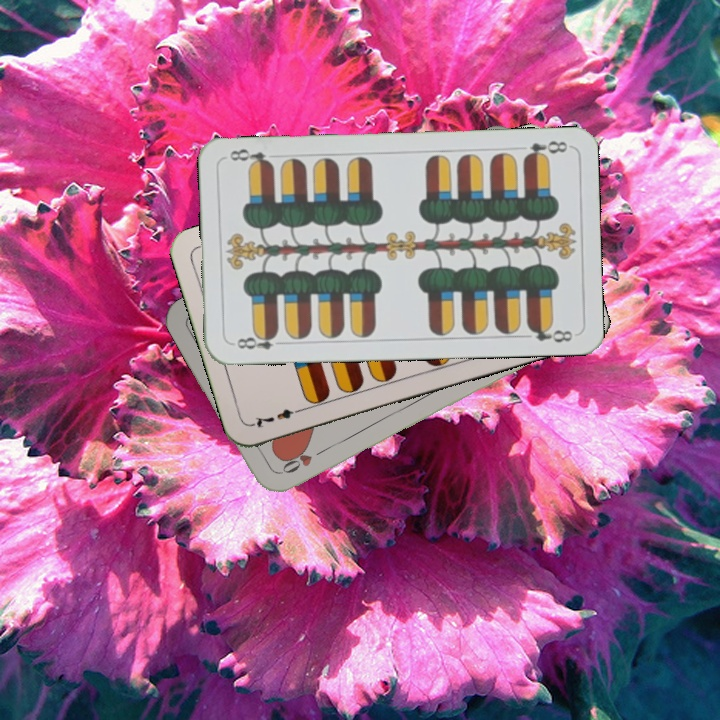E7: (248, 404, 306, 431)
E8: (228, 329, 287, 352), (520, 136, 570, 162)
HO: (275, 443, 330, 478)
